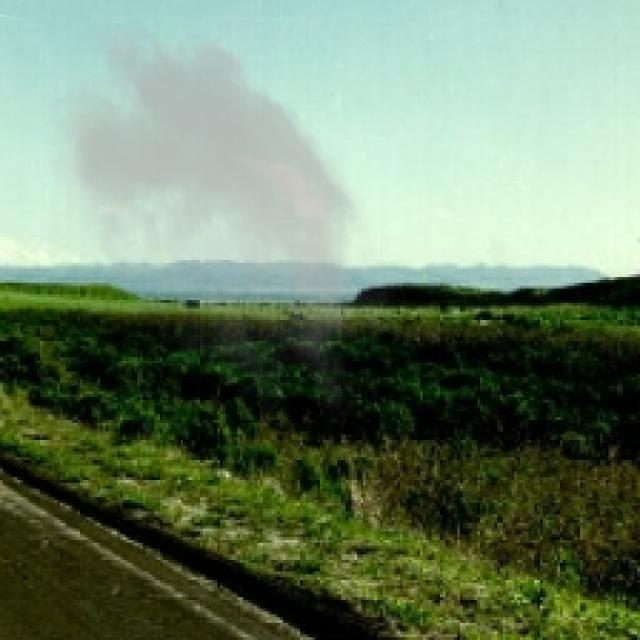smoke: (31, 9, 403, 417)
